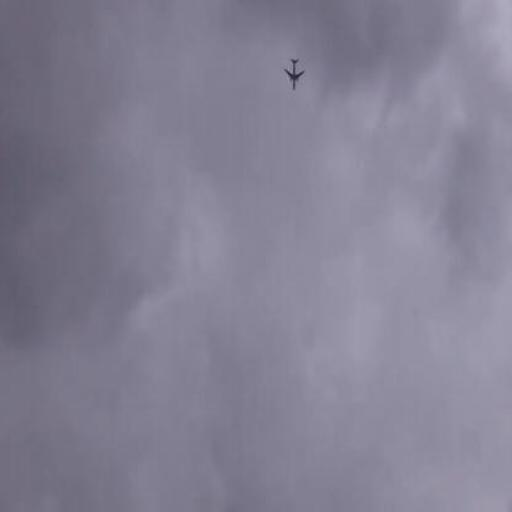aircraft: (282, 54, 308, 91)
